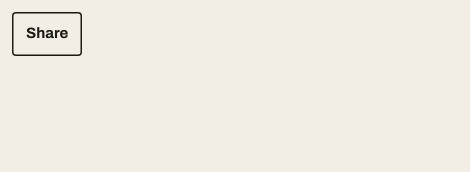
Scenario: ShareButton › reports a failed copy instead of failing silently
Click the button "Share": [47, 34] box [12,12,82,56]
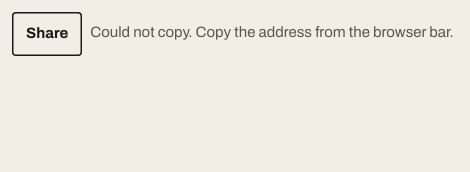
expect the message shows "Could not copy": met, box [90,25,454,41]
